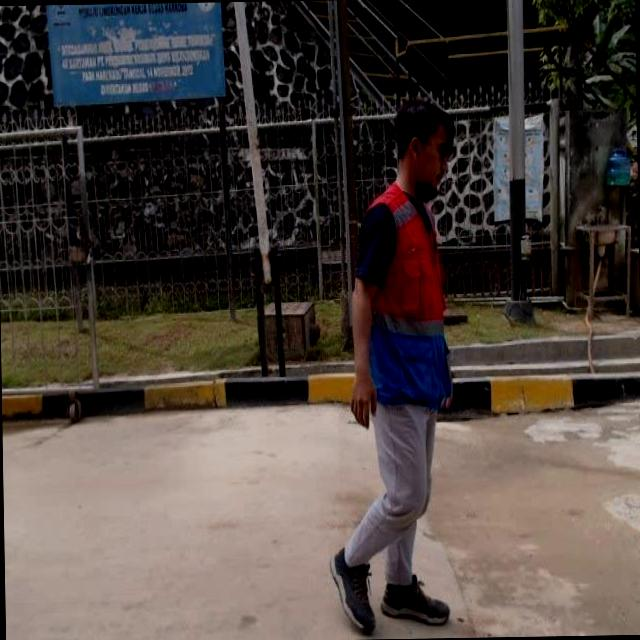no-boots: (326, 543, 382, 640), (380, 574, 454, 631)
no-gloves: (342, 358, 376, 440)
no-helmet: (382, 90, 467, 200)
vest: (352, 179, 467, 413)
